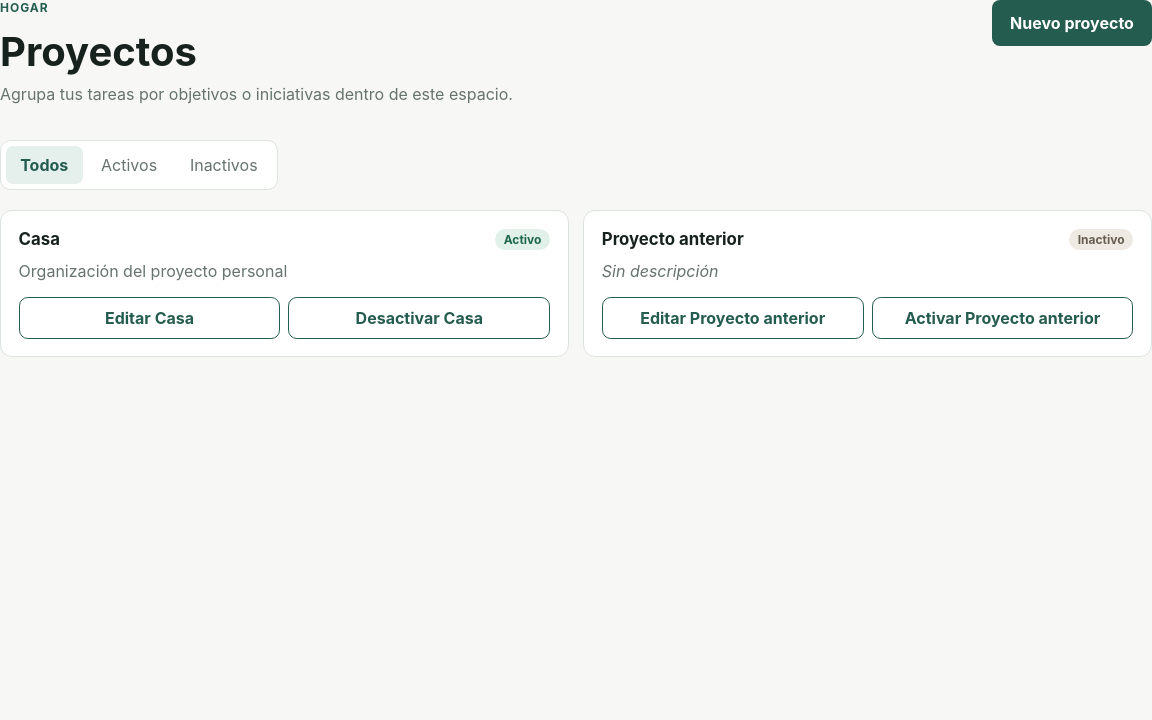
ProjectsPage › validates and creates a Project while invalidating only its Workspace
Expected: the heading "Casa" is shown, [19,229,60,249]
Click the button "Nuevo proyecto" at (1072, 23), box [992,0,1151,46]
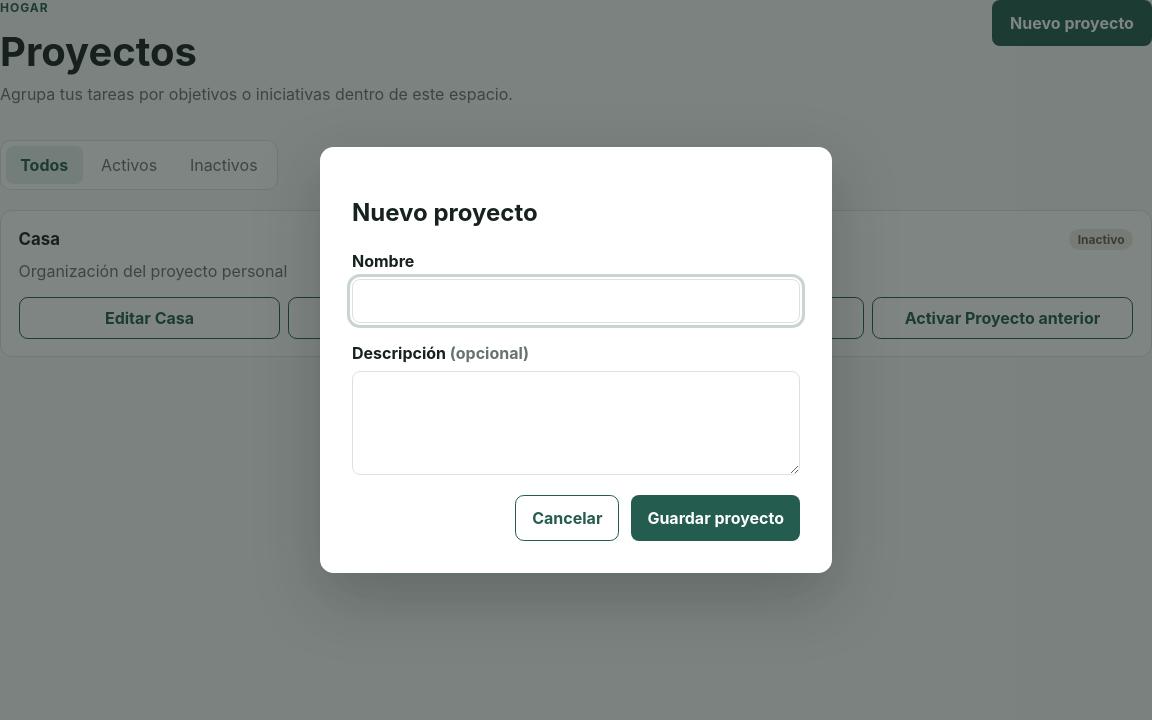
Click the button "Guardar proyecto" at (716, 518), box [631,495,800,541]
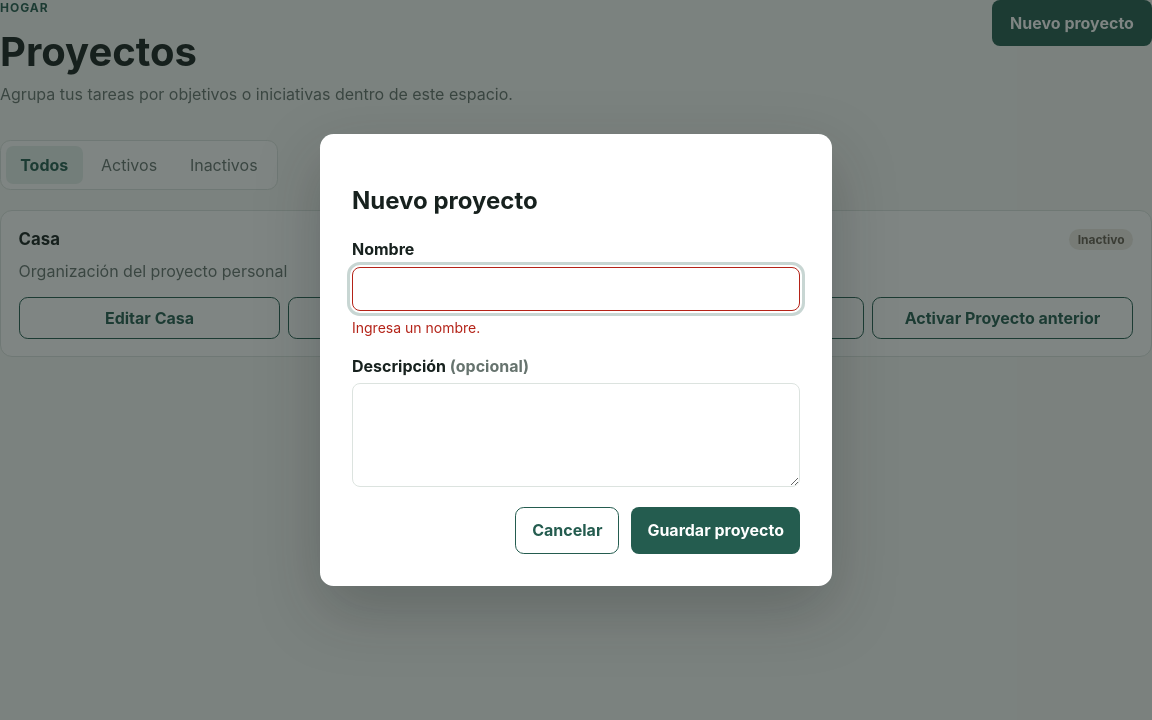
Expected: the text "Ingresa un nombre." is shown, [352,319,480,336]
Type "  Jardín  " into the field labelled "Nombre" at (576, 289), box [352,267,800,311]
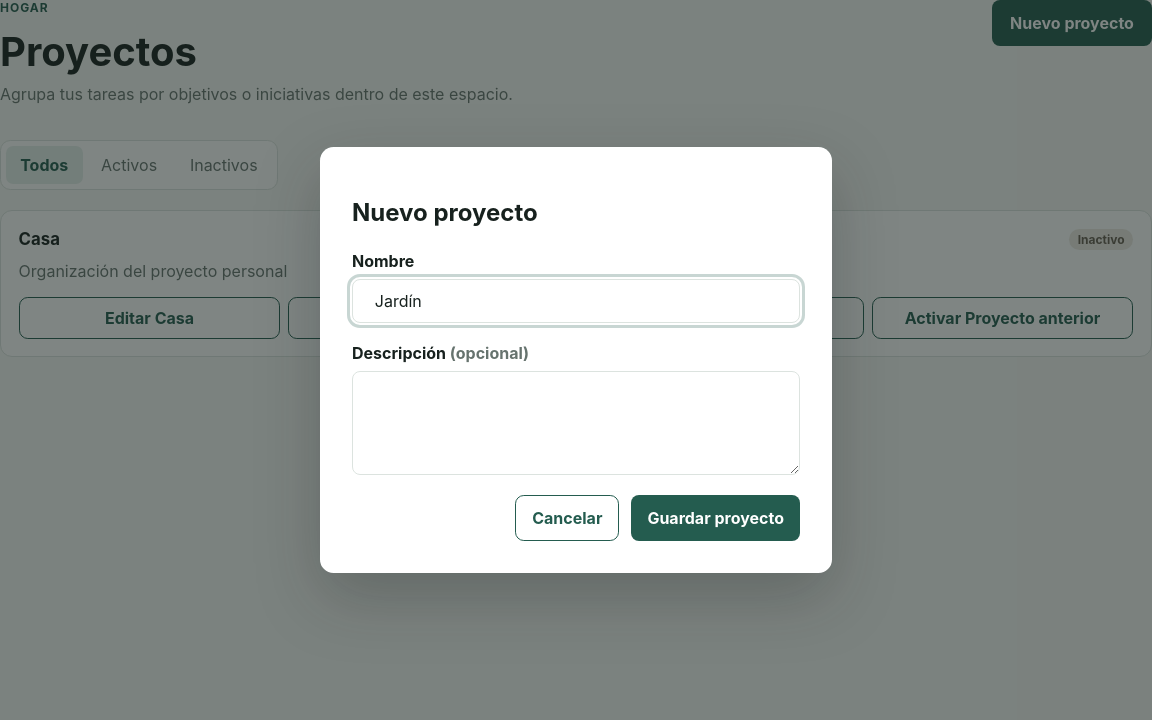
Type "  Renovación exterior  " into the text box labelled "Descripción (opcional)" at (576, 423), box [352,371,800,475]
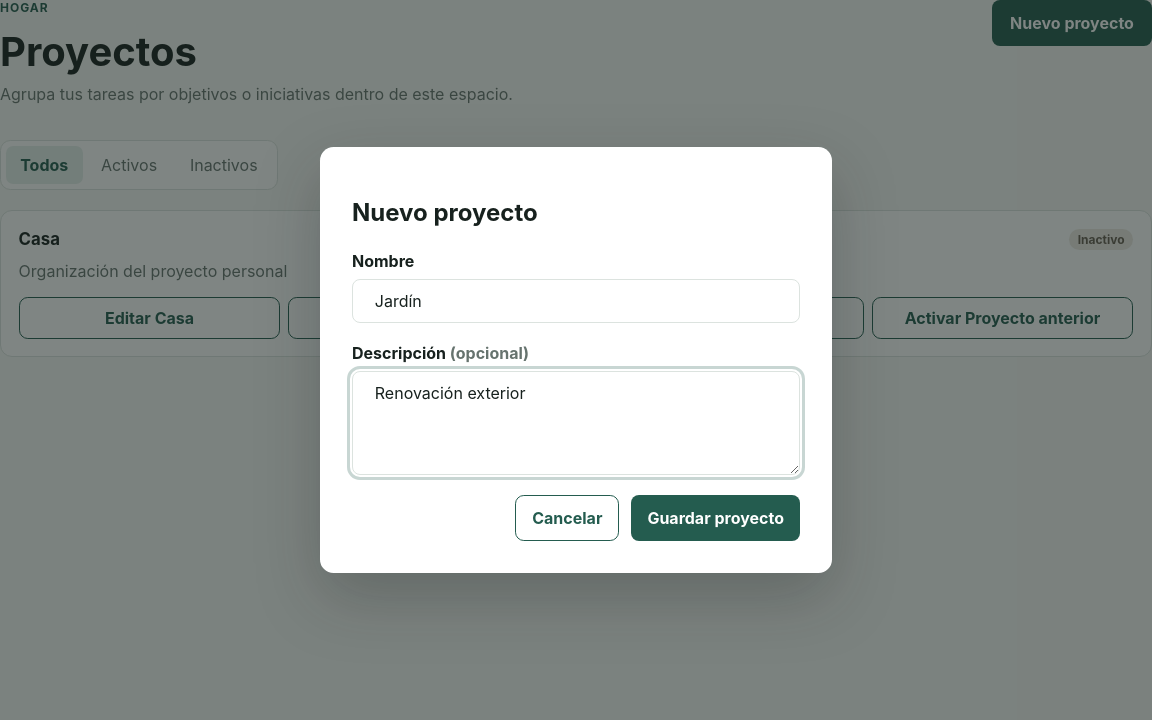
Click the button "Guardar proyecto" at (716, 518), box [631,495,800,541]
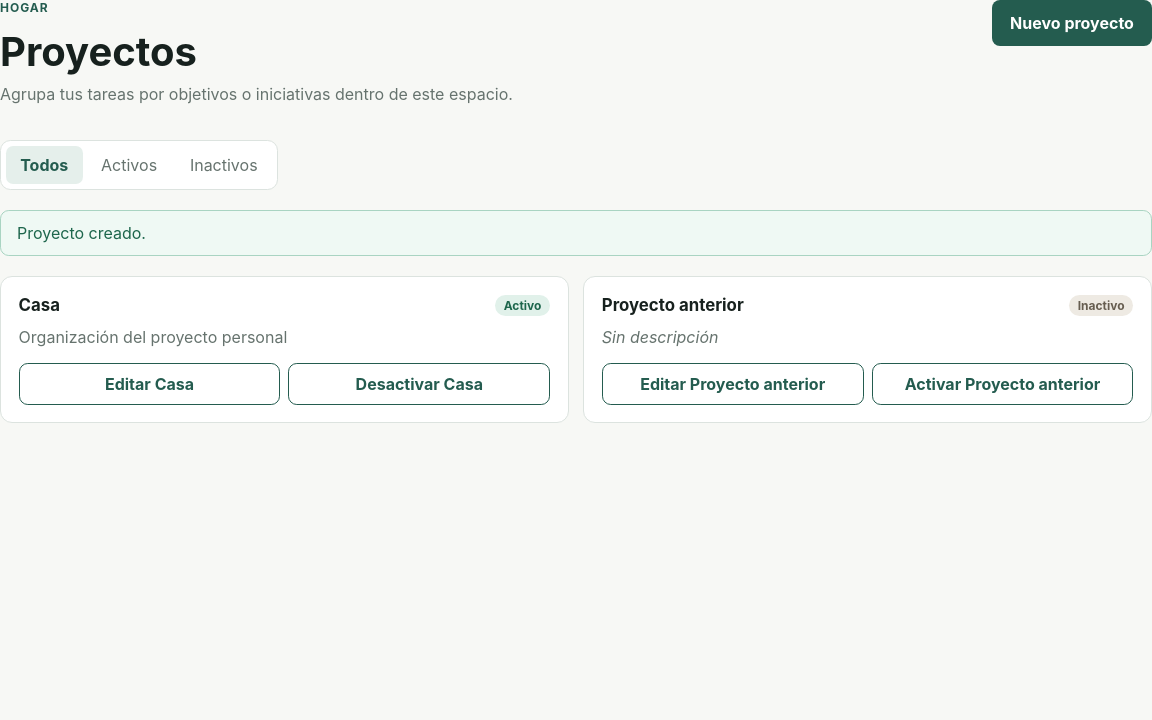
Expected: the text "Proyecto creado." is shown, [0,210,1151,256]
